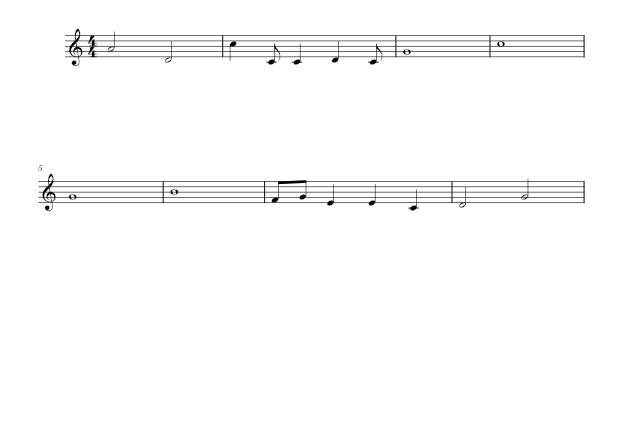Treble Clef: (65, 25, 85, 71), (41, 172, 59, 214)
